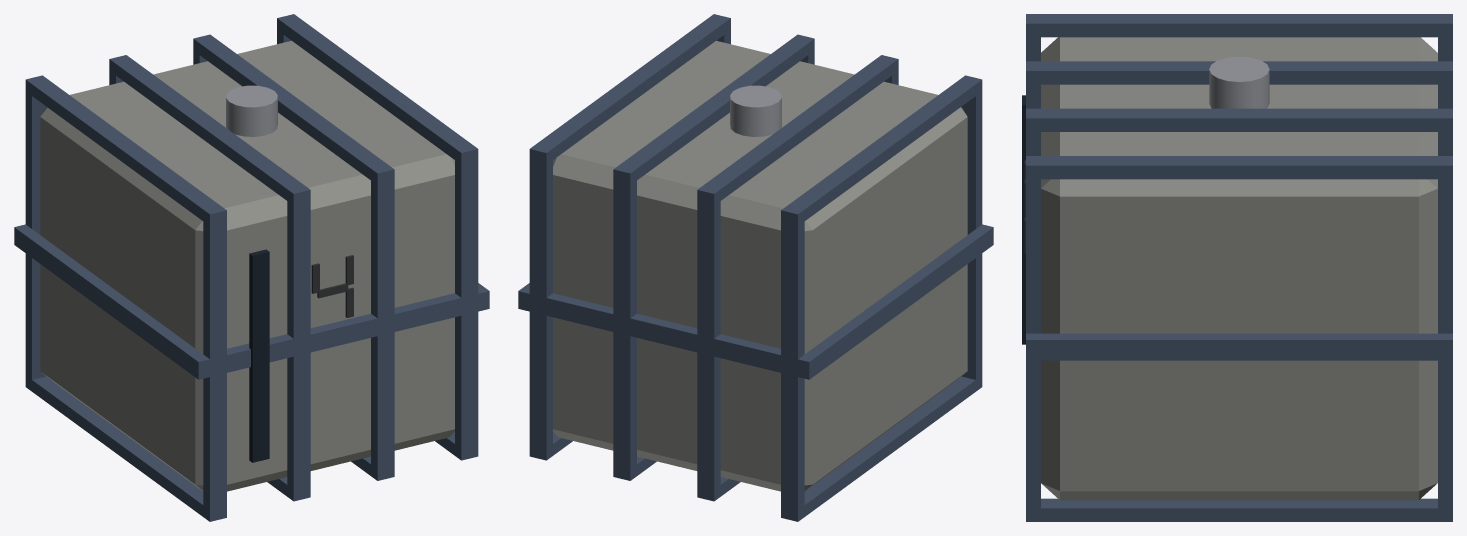
File: ko300_fluid.obj
3 views of the same model, side by side, from view 1: azimuth 30°, elevation 25°; view 2: azimuth 150°, elevation 25°; view 3: azimuth 270°, elevation 25° (orthographic). The views are drawn at different scales.
Visible parts, largest first — view 1: ko300_fluid; view 2: ko300_fluid; view 3: ko300_fluid.
Part boxes in pixels (bbox=[...]): ko300_fluid: bbox=[14, 14, 489, 521]; ko300_fluid: bbox=[518, 14, 993, 521]; ko300_fluid: bbox=[1022, 14, 1452, 521].
Size of the model in its own units: 1.03 by 1.1 by 1.14.
